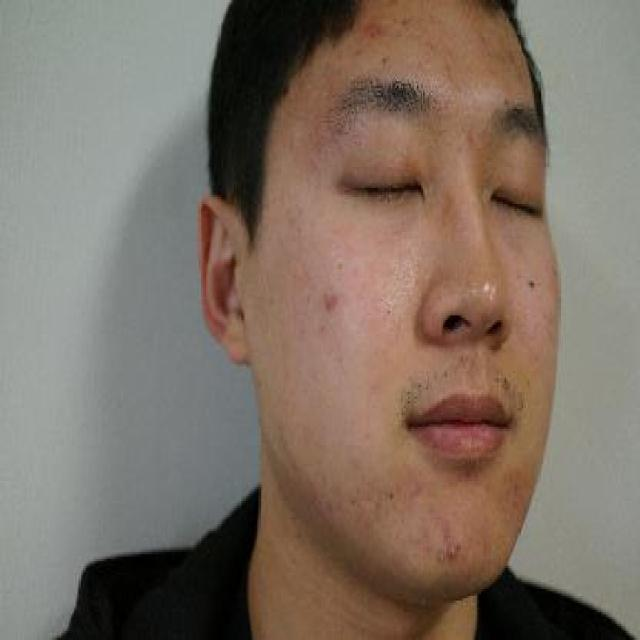blackheads: (440, 543, 462, 568)
dark spot: (316, 283, 344, 315)
papules: (396, 12, 422, 34), (360, 16, 383, 40)
